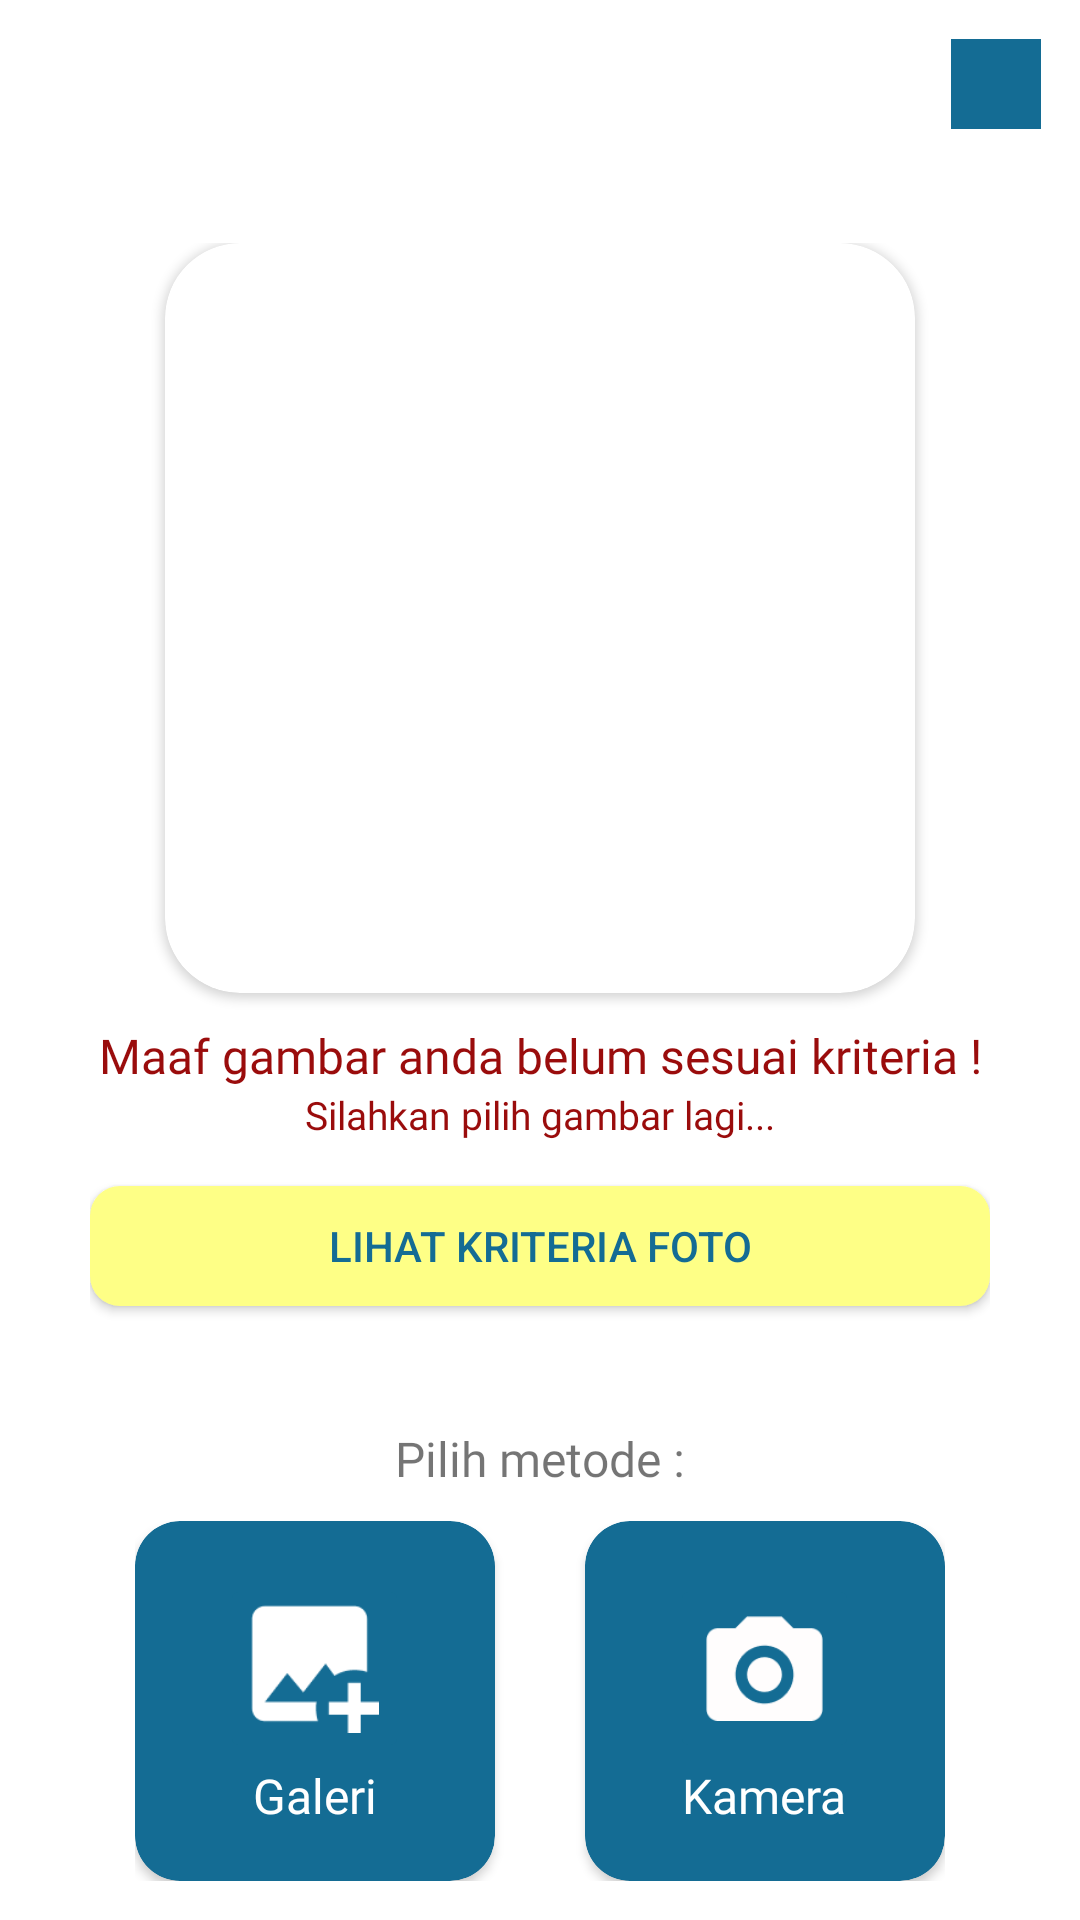

Screen size 1080px x 1920px. Icon name, then its center in pixels as [x,y]:
Camera: [764,1668]
